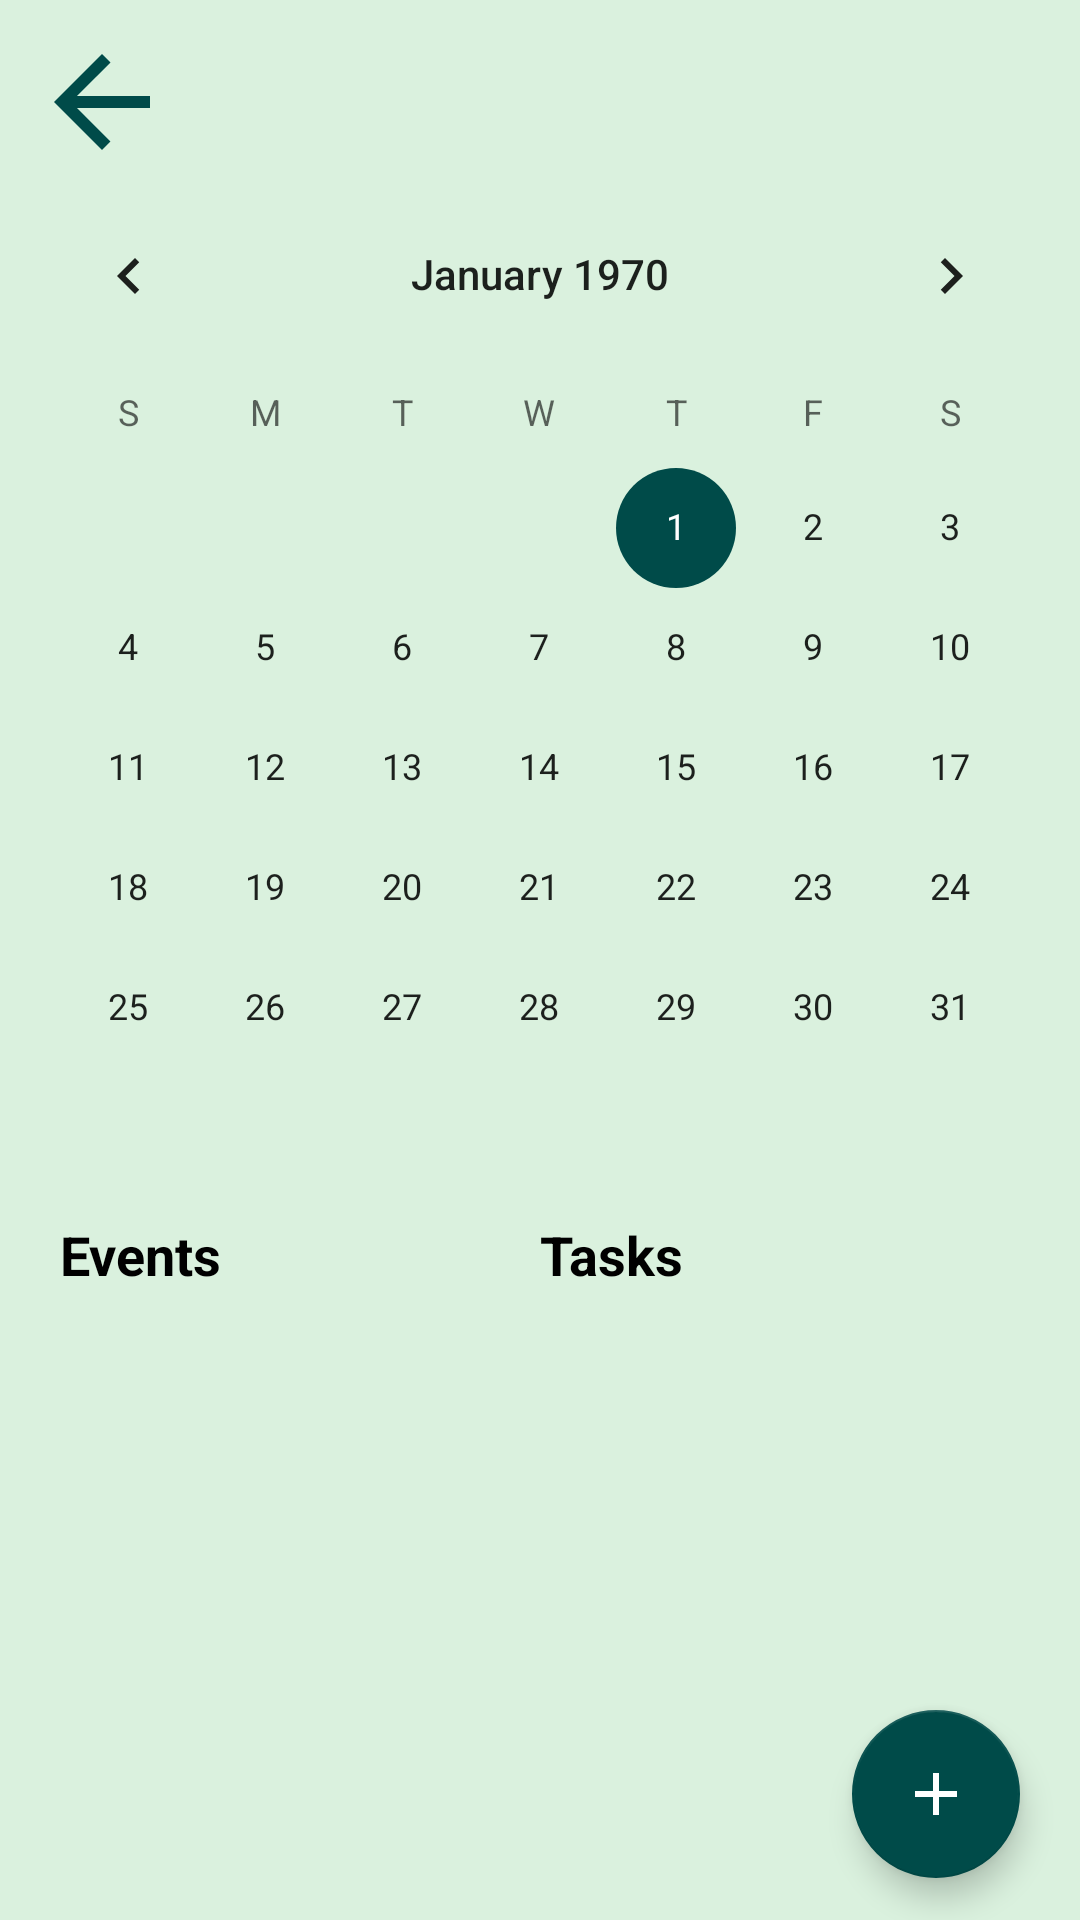

Named icons in this screenshot (1080x1920) and their centers, point (x, y):
add: point (936, 1794)
arrow back: point (102, 102)
